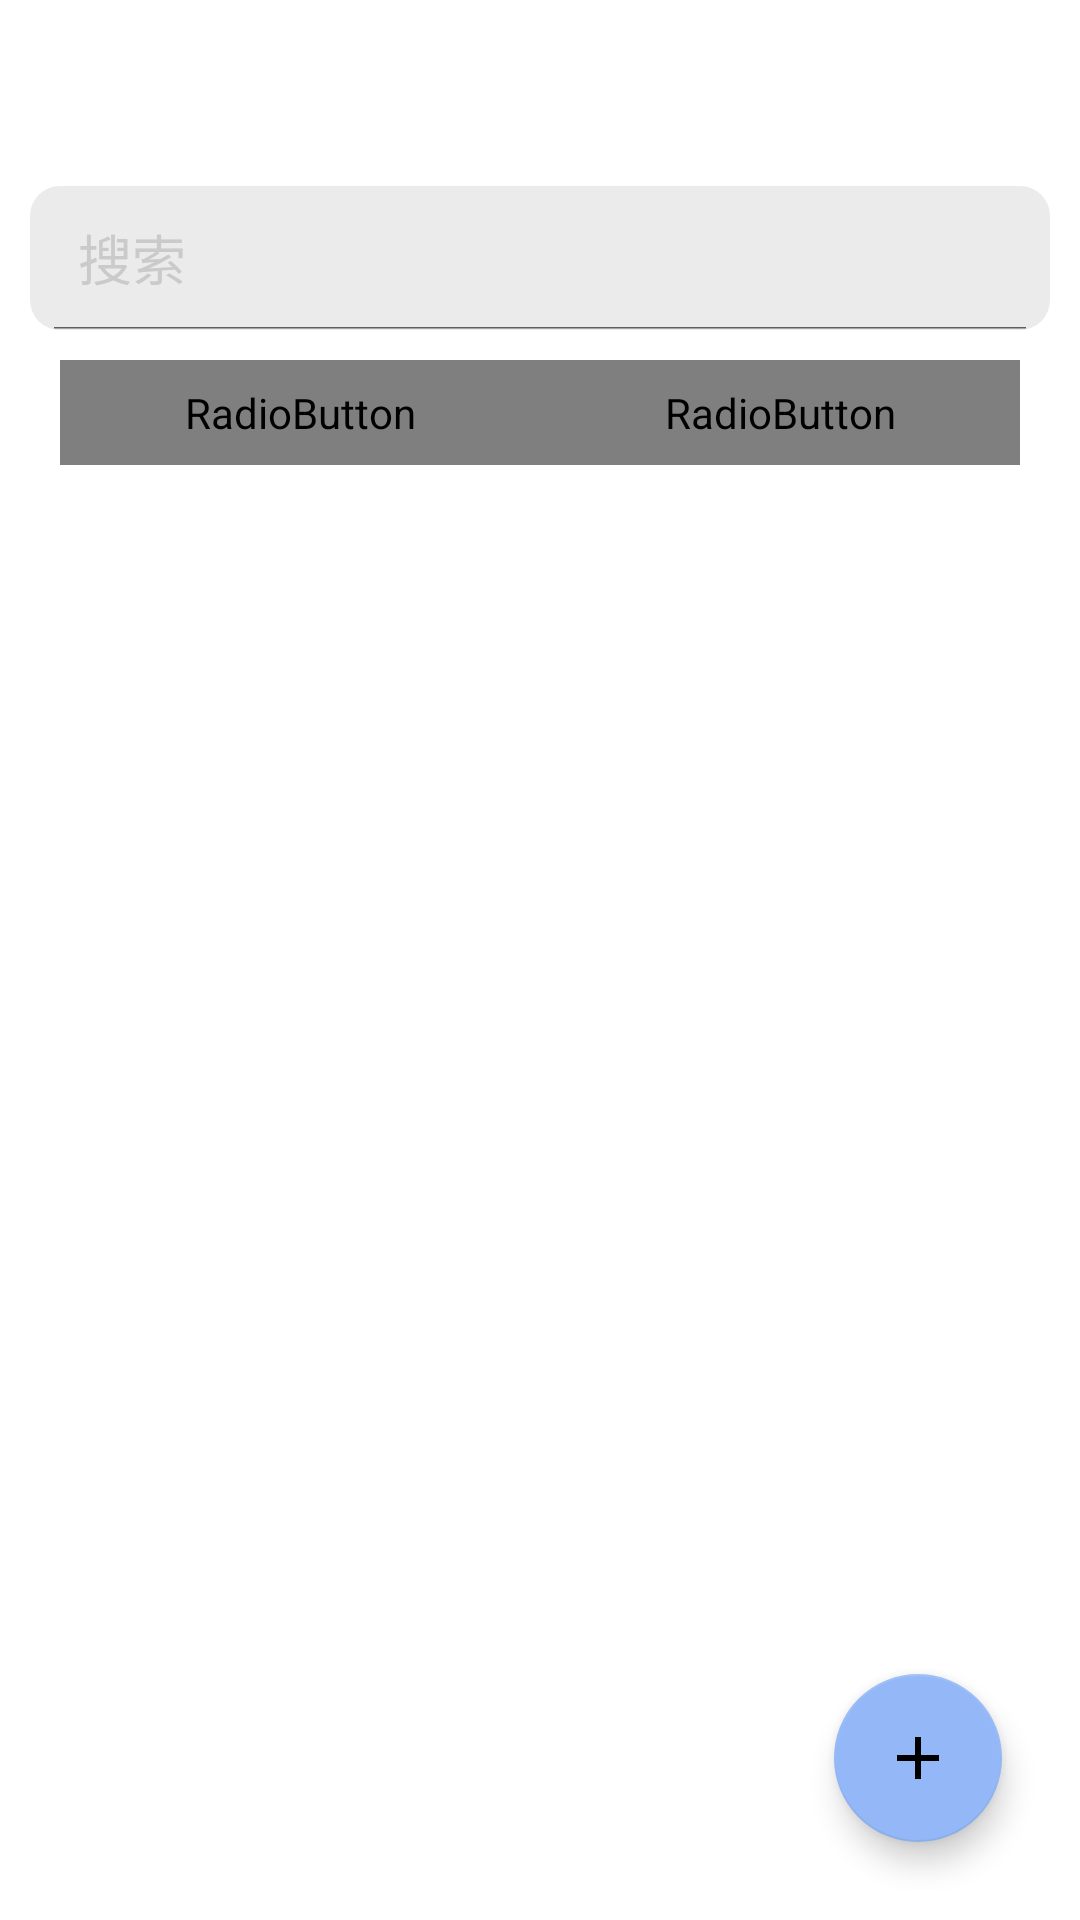

Where icons sit on this 1080 x 1920 app screen, as [x1,y1,x2,y2]:
add: [834,1674,1002,1842]
